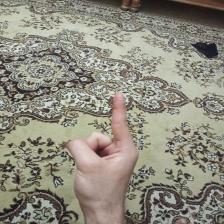one: (62, 88, 145, 219)
